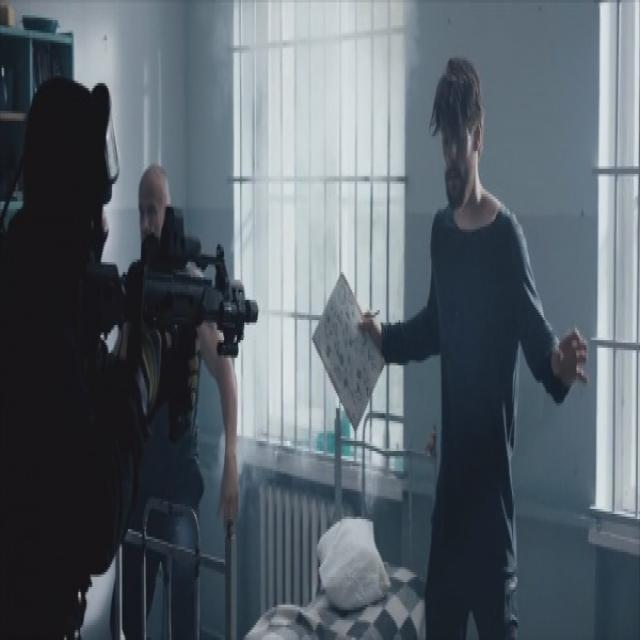rifle: (99, 196, 260, 396)
